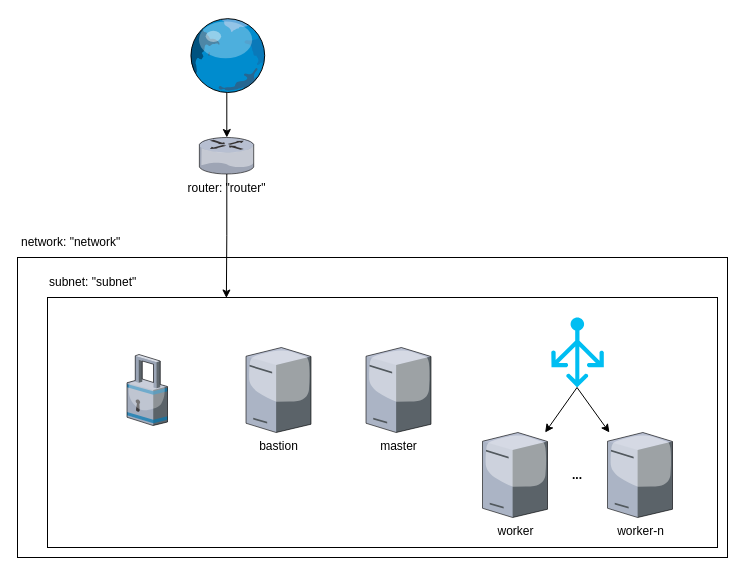
Some shapes in this 745 by 575 pixel diagram are drawn without their labels. The centre of each missing label's shape, as x and y in pixels:
"Load Balancer" goes at [577,352].
"public" goes at [226,54].
"security groups" goes at [146,389].
